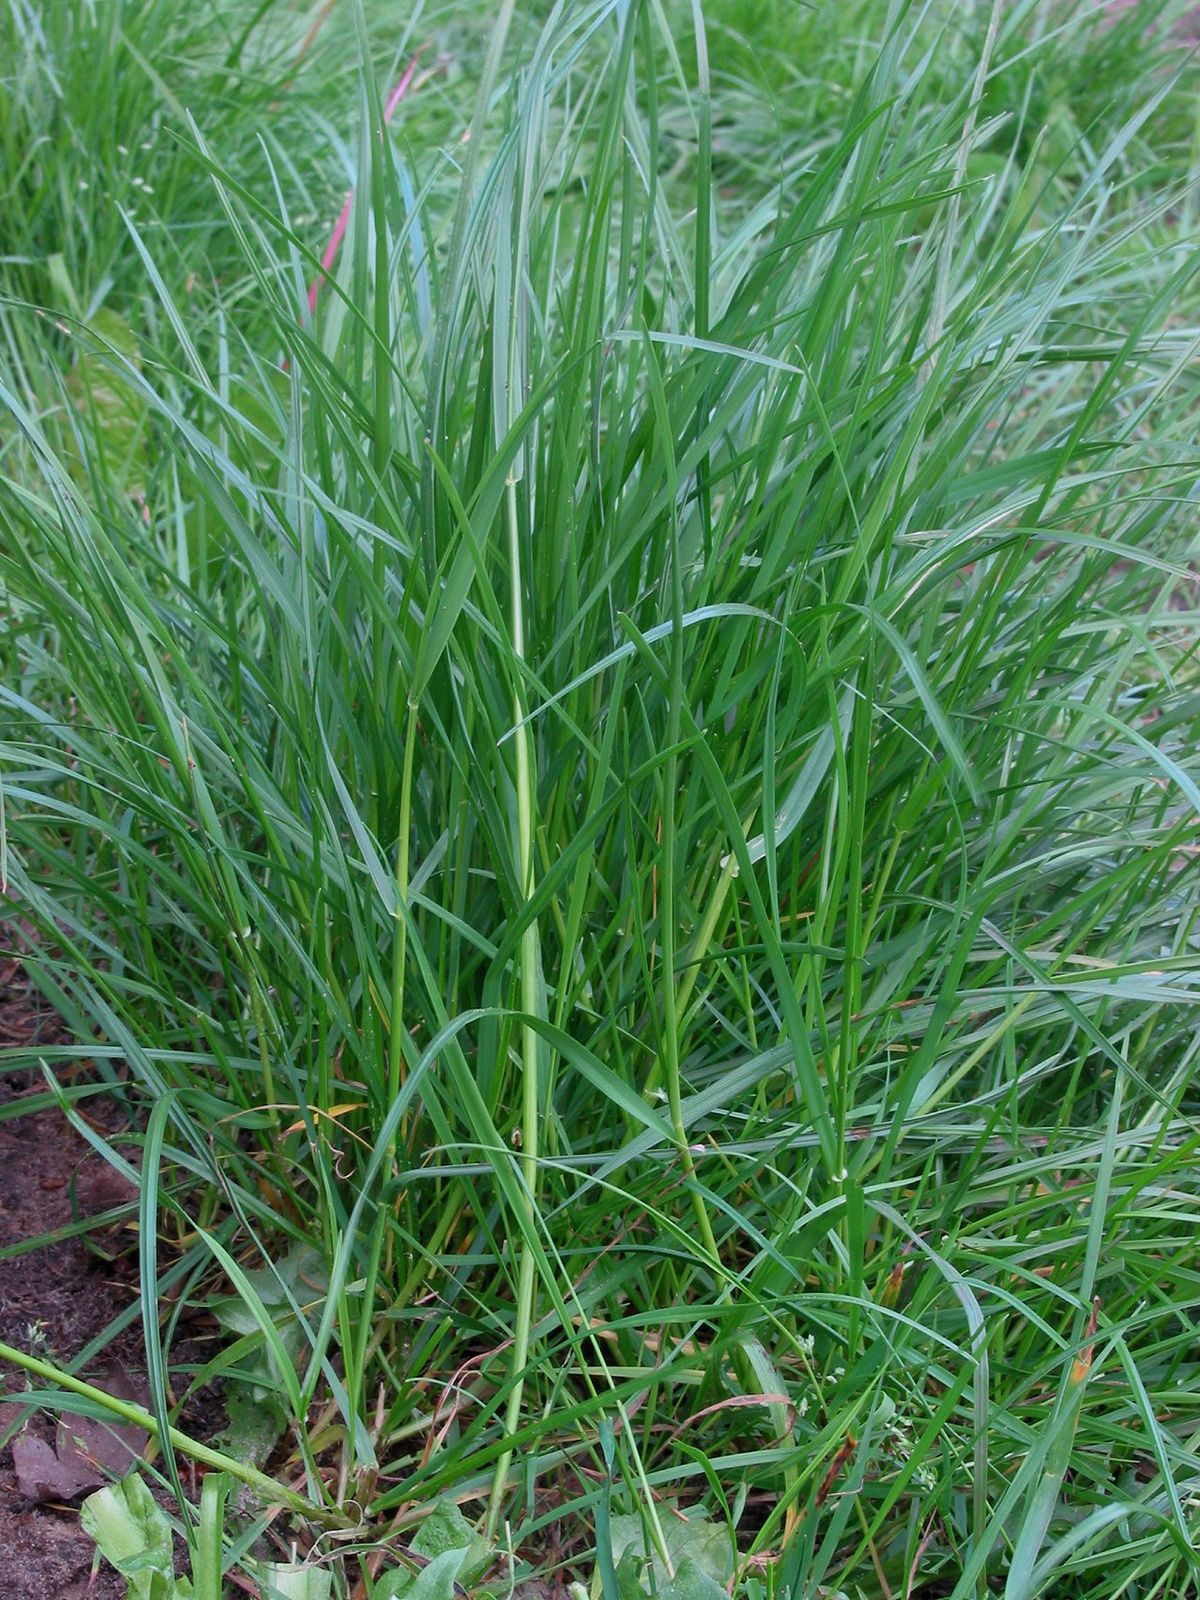grass: (5, 3, 1200, 1600)
